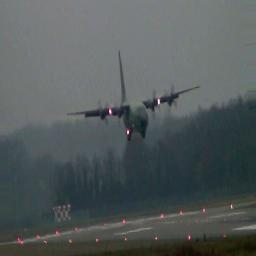Airplane: (64, 51, 200, 138)
